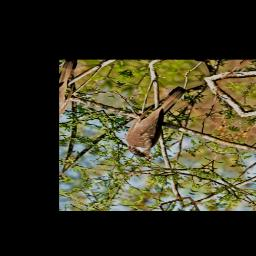Cuckoo: (115, 81, 198, 161)
